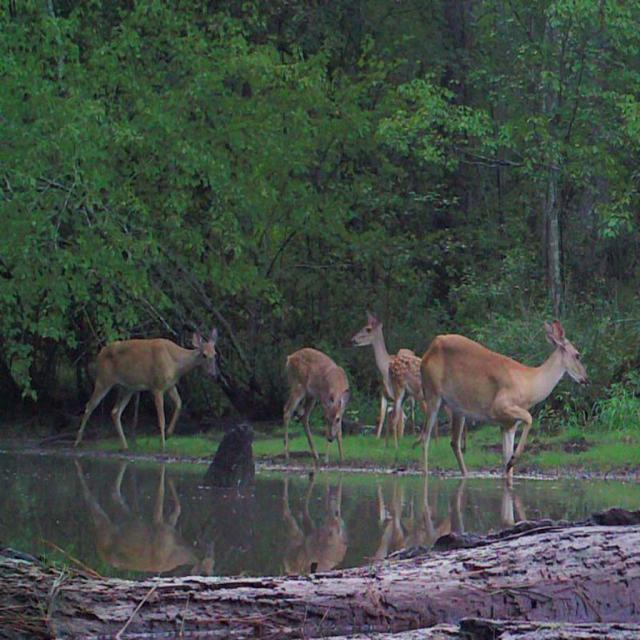Deer: (420, 317, 588, 483), (72, 328, 222, 454), (351, 312, 437, 439), (283, 347, 351, 462)
